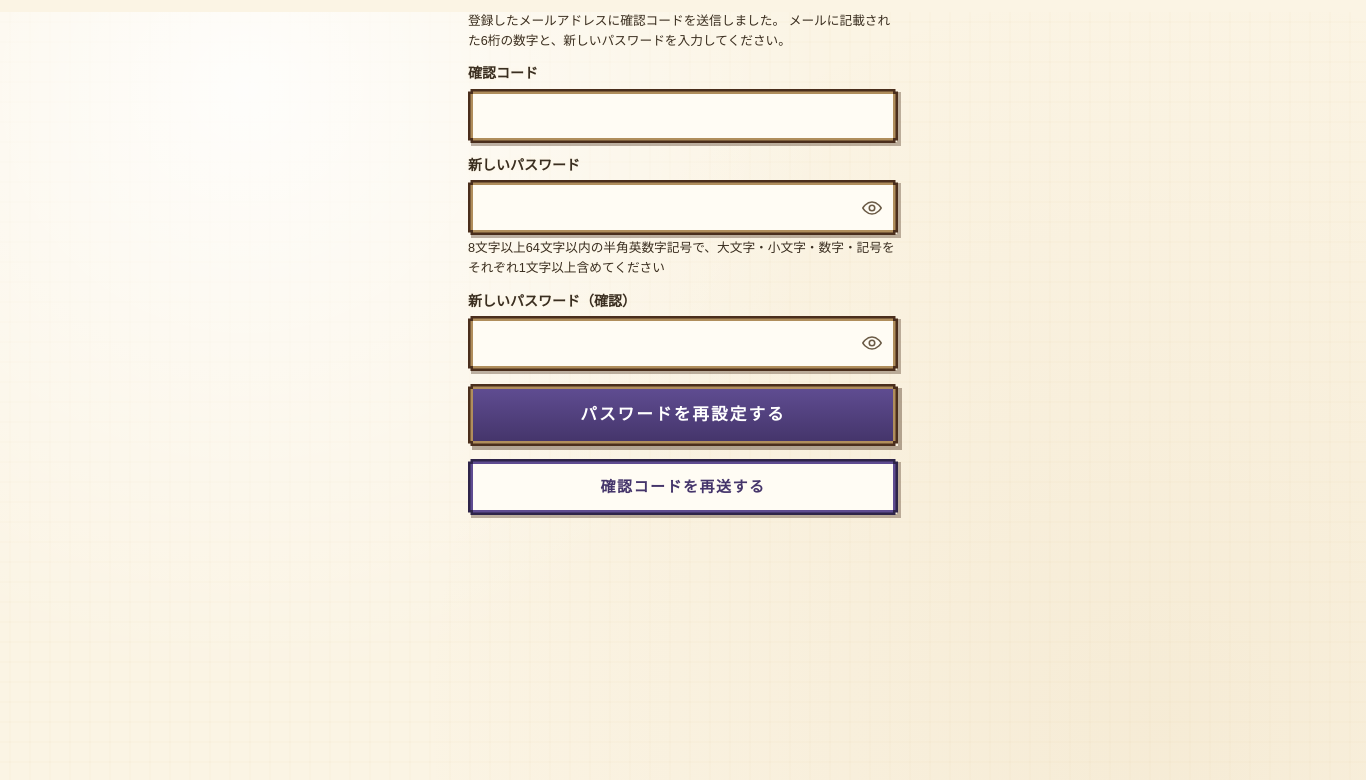
Scenario: PasswordResetConfirmForm › 確認パスワードが一致しない場合は送信しない
In the field labelled "確認コード": x=683, y=116 [468, 89, 898, 143], type "123456"
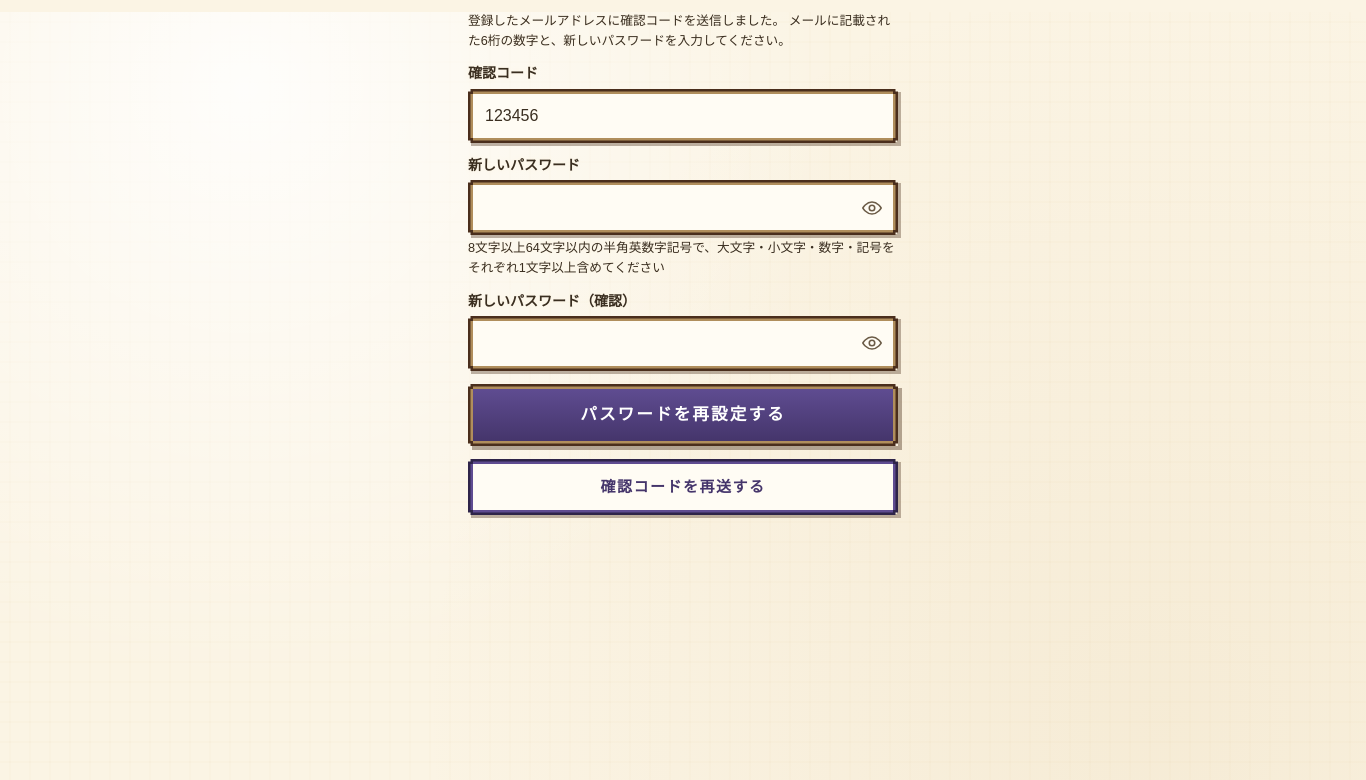
In the password field labelled "新しいパスワード": x=683, y=208 [468, 180, 898, 235], type "Abcdef1!"
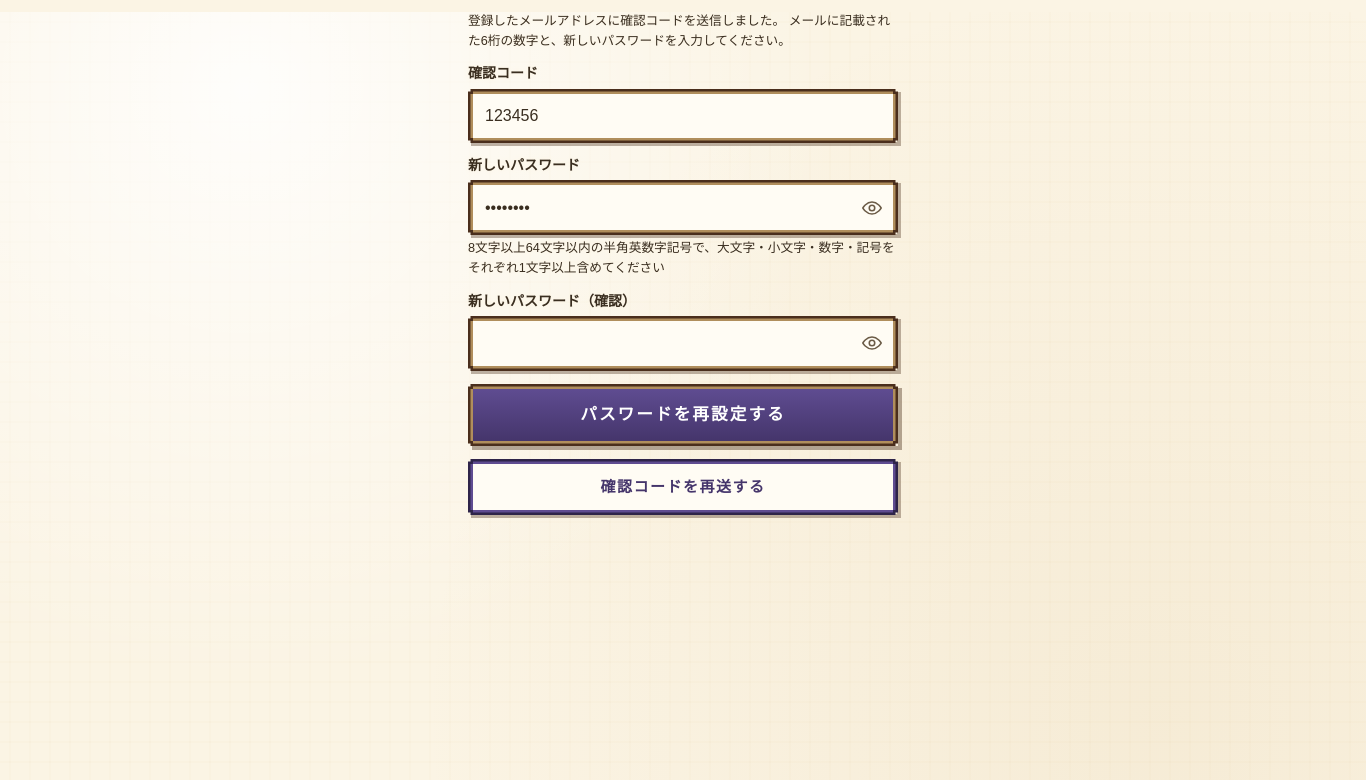
In the password field labelled "新しいパスワード（確認）": x=683, y=343 [468, 316, 898, 371], type "Abcdef1?"
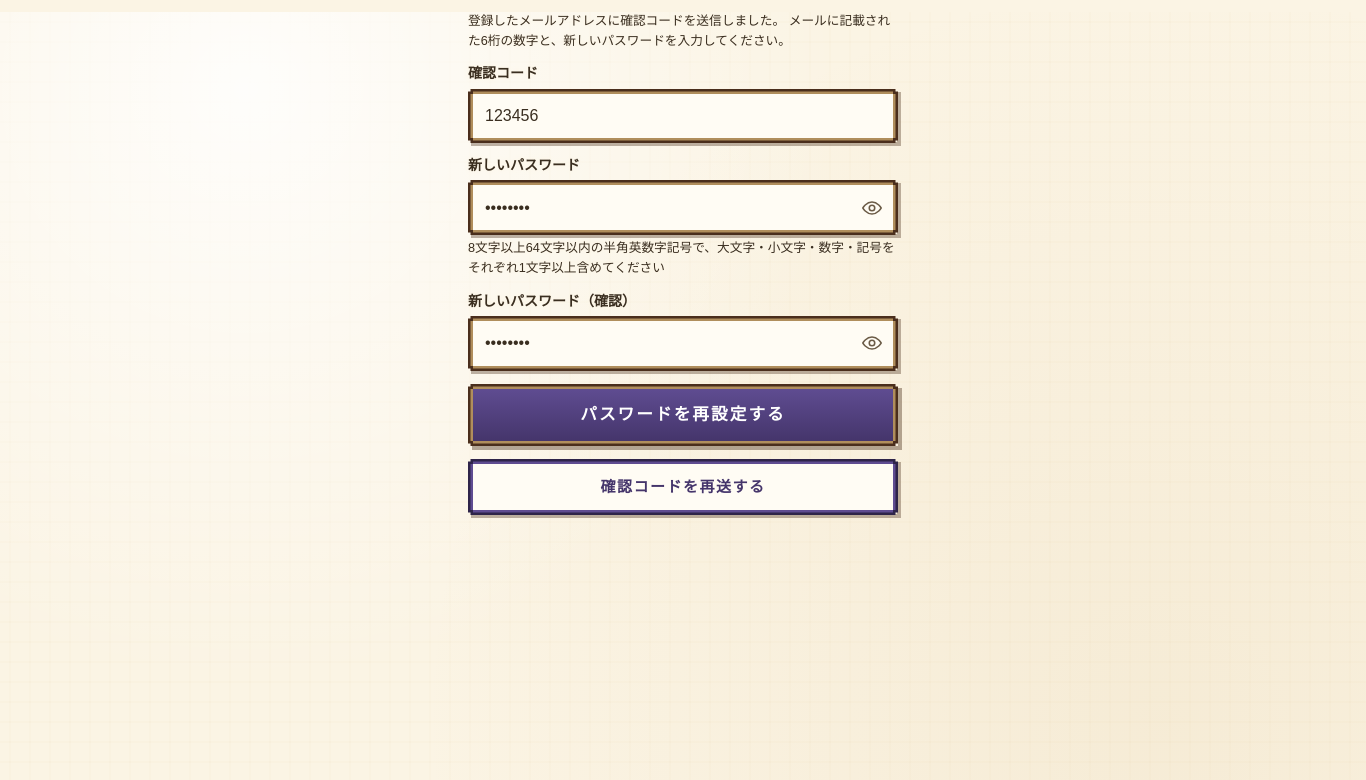
Submit the form, box [468, 12, 898, 515]
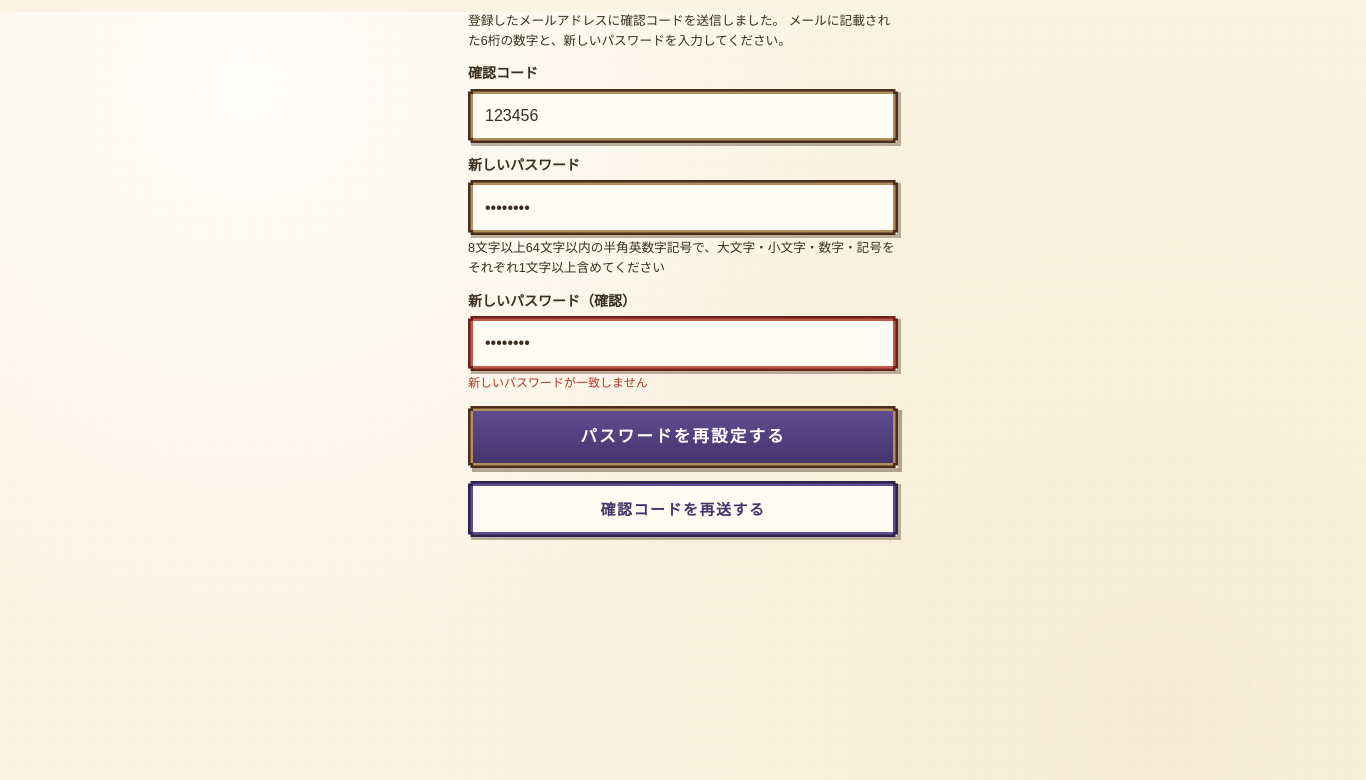
Now the text "新しいパスワードが一致しません" is shown, box [468, 376, 648, 390]
